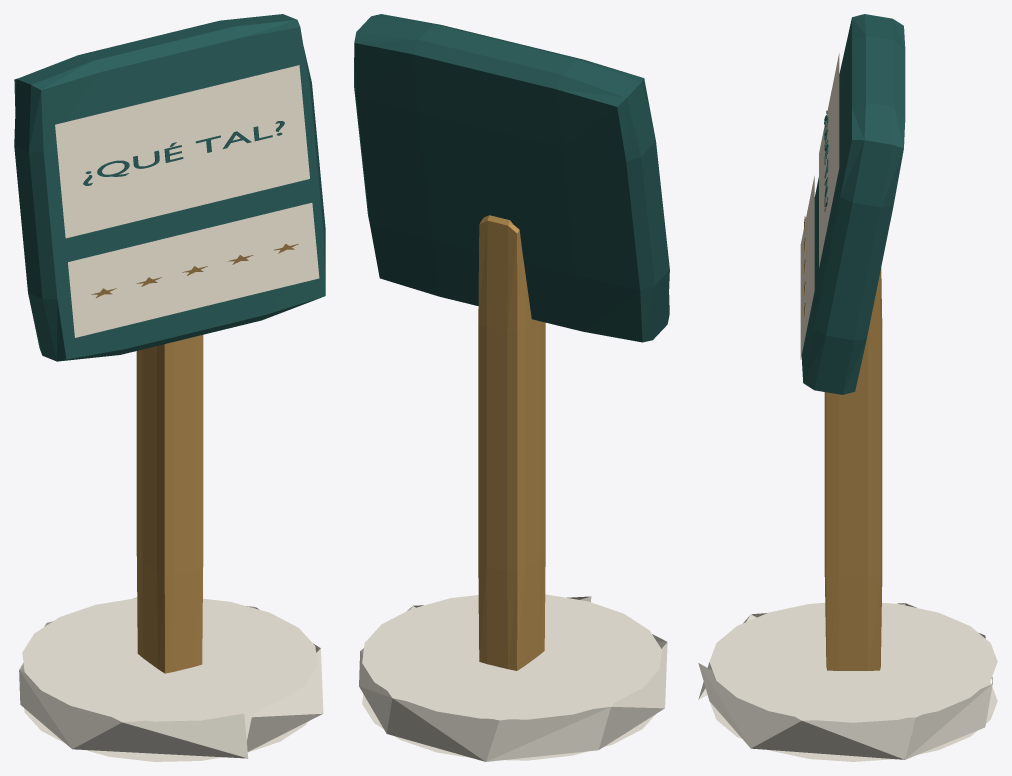
Rendered from better.glb.
3 views of the same model, side by side, from view 1: azimuth 30°, elevation 25°; view 2: azimuth 150°, elevation 25°; view 3: azimuth 270°, elevation 25° (orthographic). The views are drawn at different scales.
Parts seen in each view (by area): view 1: Native component 2, Native component 0, Native component 3, Native component 1, Native component 4, Sign ¿QUÉ TAL?; view 2: Native component 2, Native component 0, Native component 1; view 3: Native component 0, Native component 2, Native component 1, Native component 3, Native component 4.
Boxes of the visible parts, x1=… form: Native component 2: x1=14, y1=14, x2=325, y2=361; Native component 0: x1=19, y1=597, x2=323, y2=761; Native component 3: x1=55, y1=65, x2=309, y2=238; Native component 1: x1=136, y1=335, x2=203, y2=673; Native component 4: x1=68, y1=202, x2=319, y2=337; Sign ¿QUÉ TAL?: x1=83, y1=121, x2=284, y2=185; Native component 2: x1=354, y1=14, x2=669, y2=342; Native component 0: x1=359, y1=594, x2=667, y2=761; Native component 1: x1=478, y1=215, x2=545, y2=670; Native component 0: x1=698, y1=603, x2=997, y2=761; Native component 2: x1=801, y1=14, x2=905, y2=394; Native component 1: x1=824, y1=268, x2=882, y2=670; Native component 3: x1=819, y1=53, x2=839, y2=267; Native component 4: x1=800, y1=176, x2=814, y2=359.
Size of the model in its own units: 0.66 by 1.45 by 0.6232.
